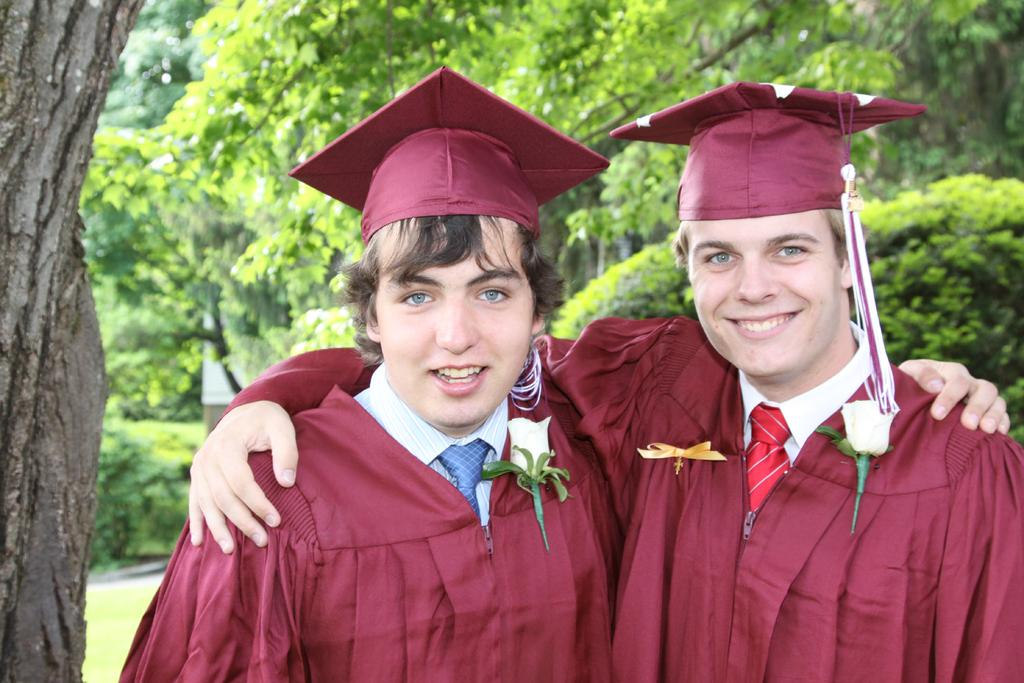Hat: (610, 80, 926, 414), (288, 65, 612, 248)
